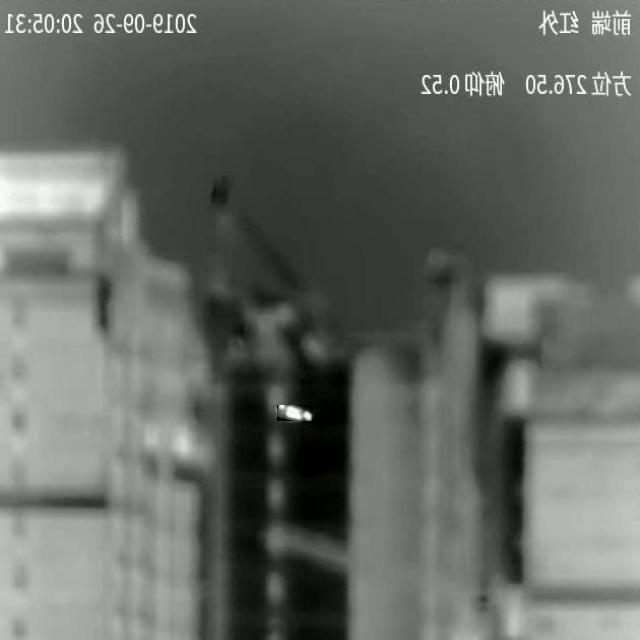drone: (277, 405, 312, 421)
